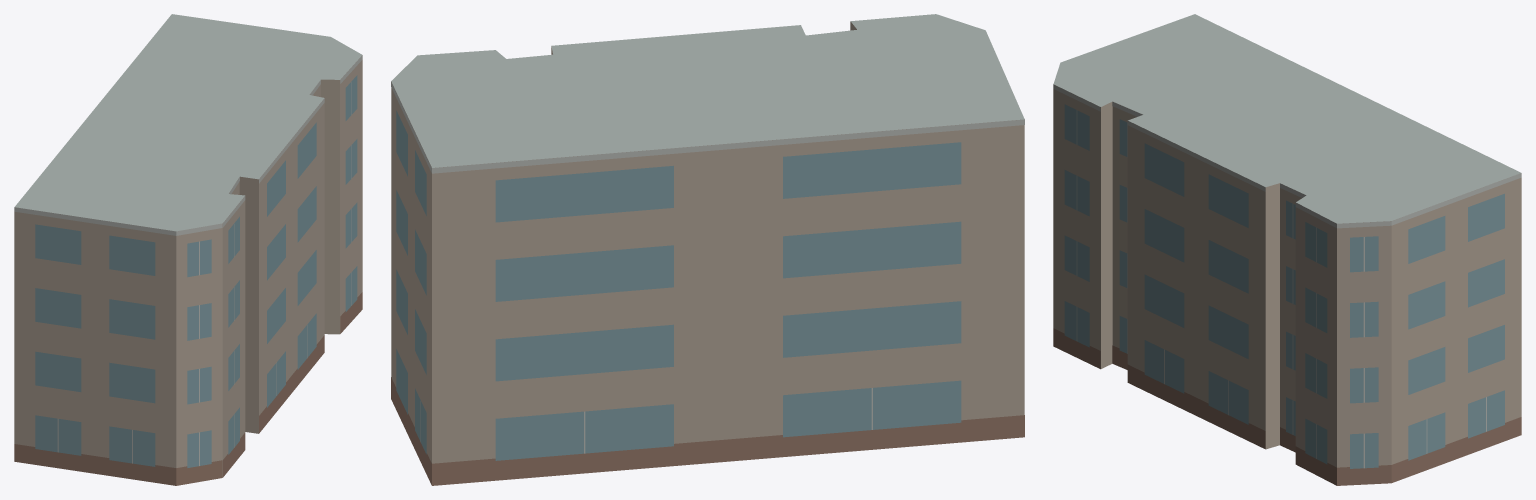
File: survey-upis-32635369.glb
3 renders of one model, left to right at view 1: azimuth 30°, elevation 25°; view 2: azimuth 150°, elevation 25°; view 3: azimuth 270°, elevation 25°, orthographic. The views are drawn at different scales.
Visible parts, largest first — view 1: survey-upis-32635369.tmp; view 2: survey-upis-32635369.tmp; view 3: survey-upis-32635369.tmp.
Part boxes in pixels (bbox=[...]): survey-upis-32635369.tmp: bbox=[14, 14, 362, 485]; survey-upis-32635369.tmp: bbox=[391, 14, 1024, 485]; survey-upis-32635369.tmp: bbox=[1053, 14, 1521, 485].
Bounding box in the file's own units: 23.51 × 13.7 × 22.18.
